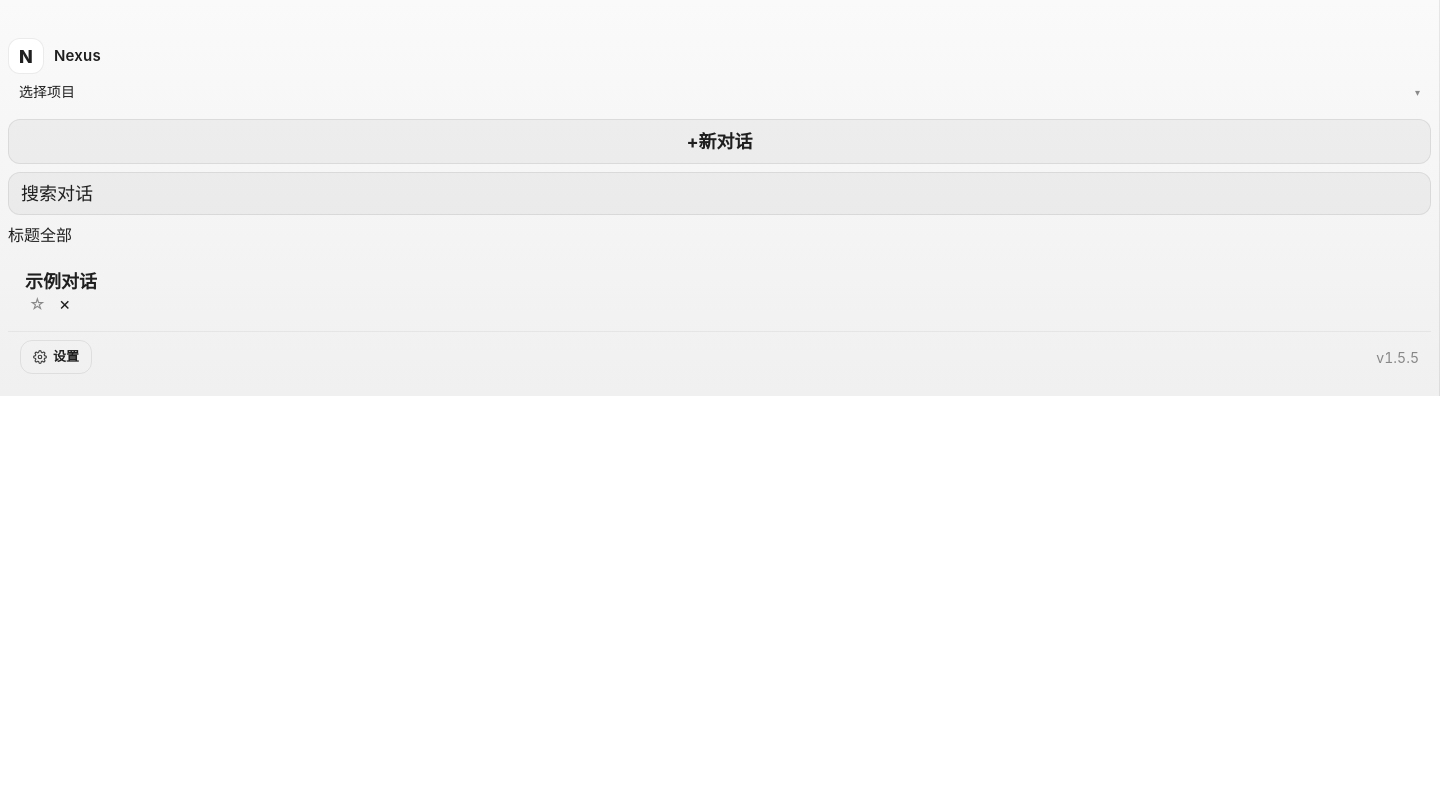
模拟人工:Provider 模型发现 › 点"发现模型" → 调 discoverProviderModels 并显示模型列表
The width and height of the screenshot is (1440, 810).
Step 1. Click the button "设置" → (56, 357), box [20,340,92,374]
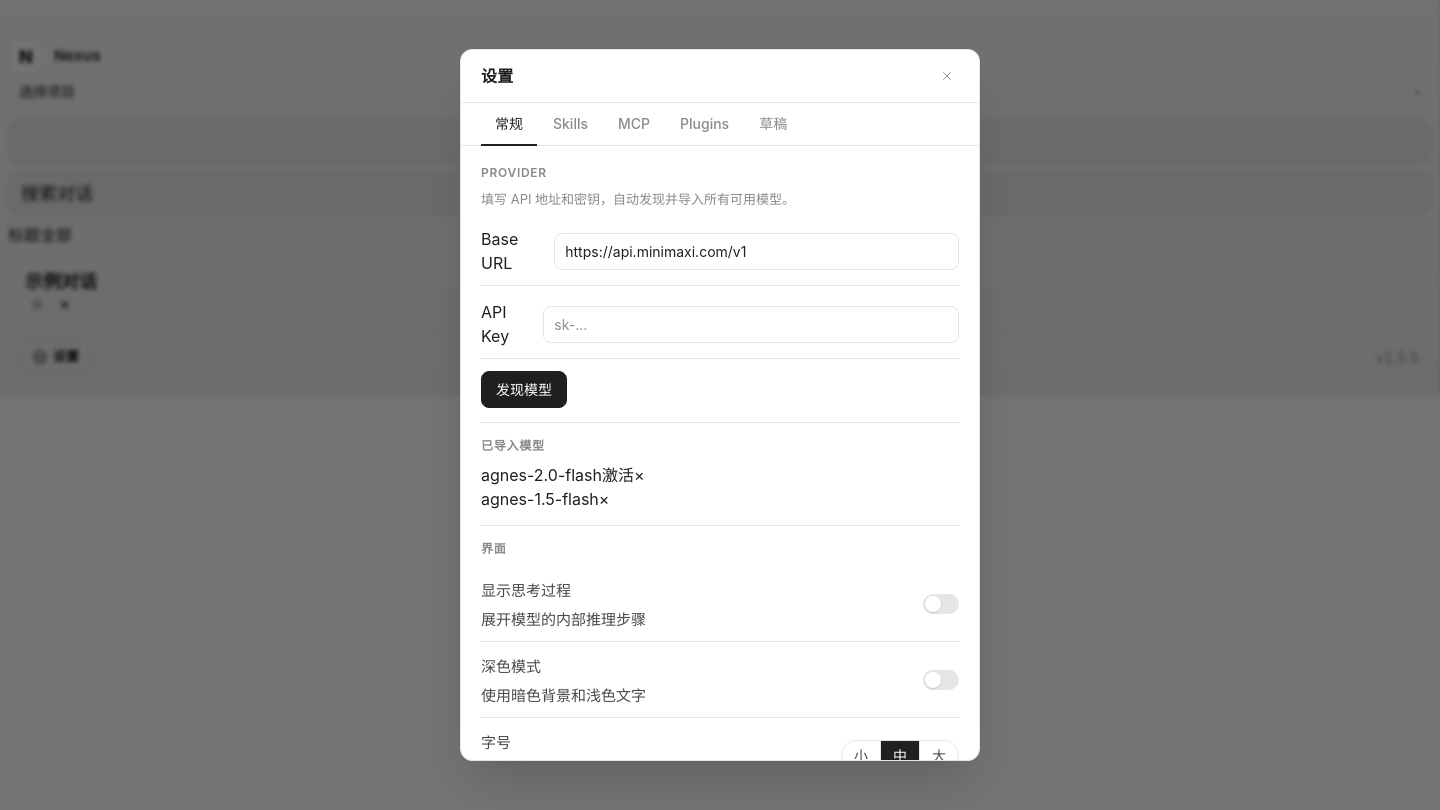
Step 2. Type "sk-test-key" into the password field labelled "API Key" → (751, 324), box [543,306,959,343]
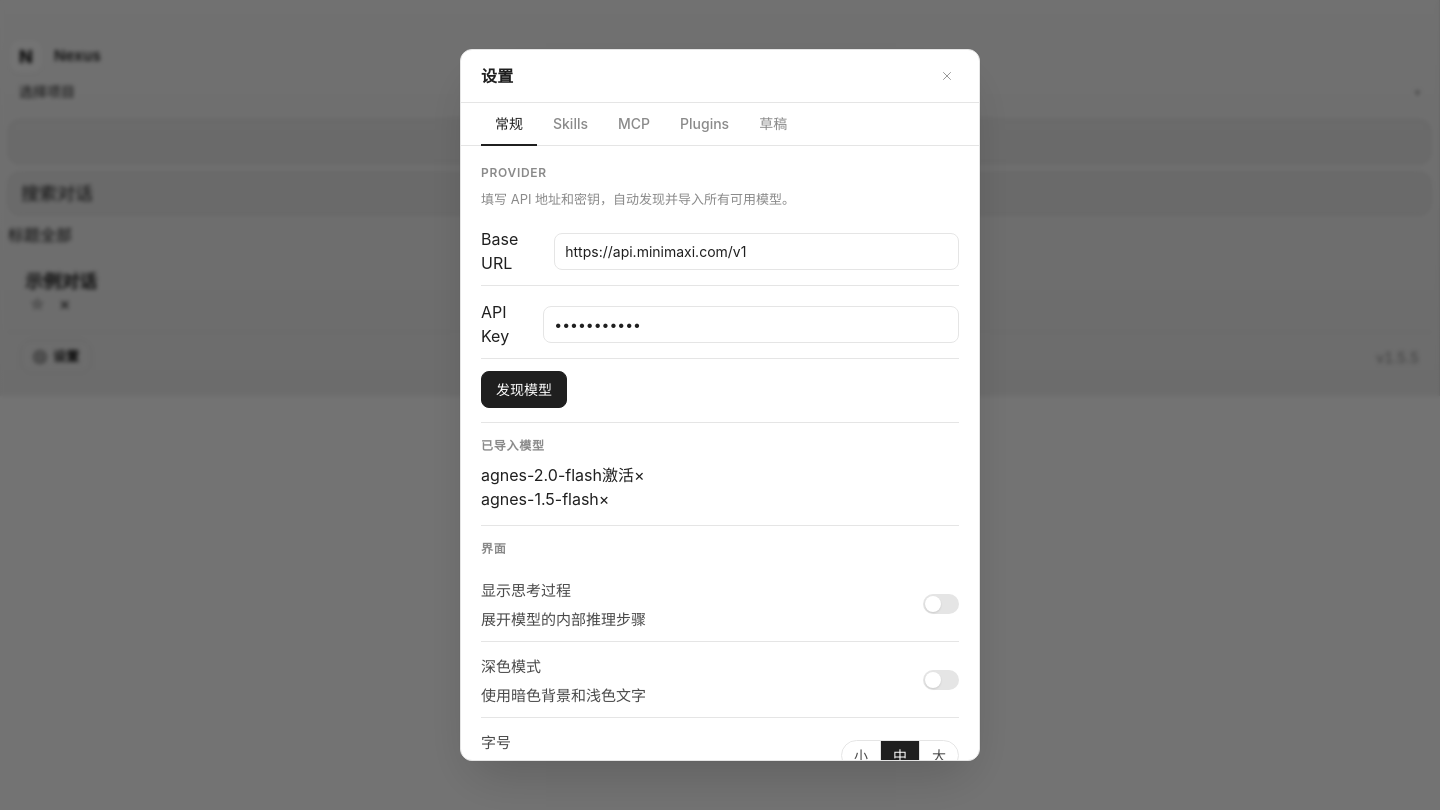
Step 3. Click the button "发现模型" → (524, 390), box [481,371,567,408]
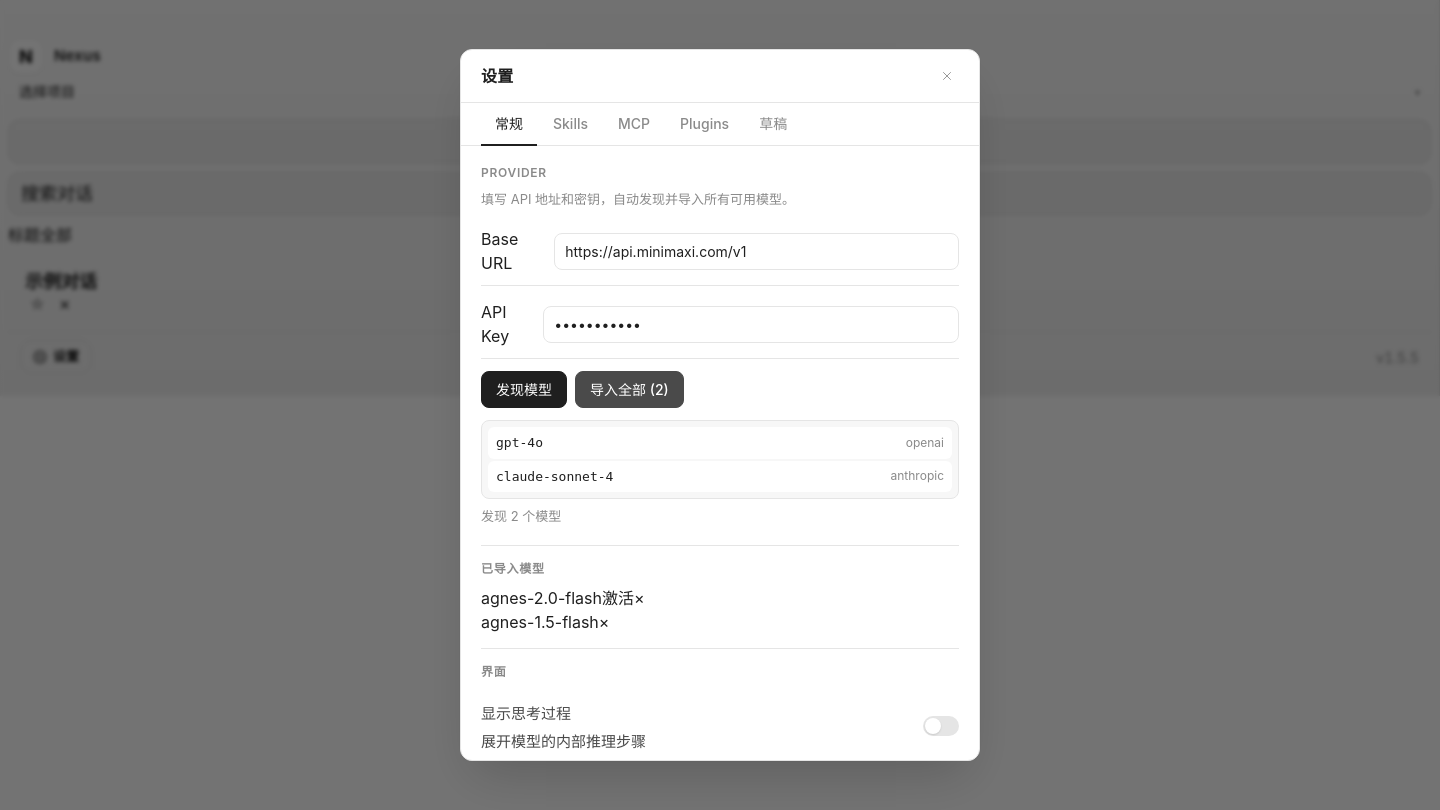
Check: the text "gpt-4o" is shown, box [496,433,543,453]
Check: the text "claude-sonnet-4" is shown, box [496,467,613,486]
Check: the button "导入全部 (2)" is shown, box [575,371,684,408]
